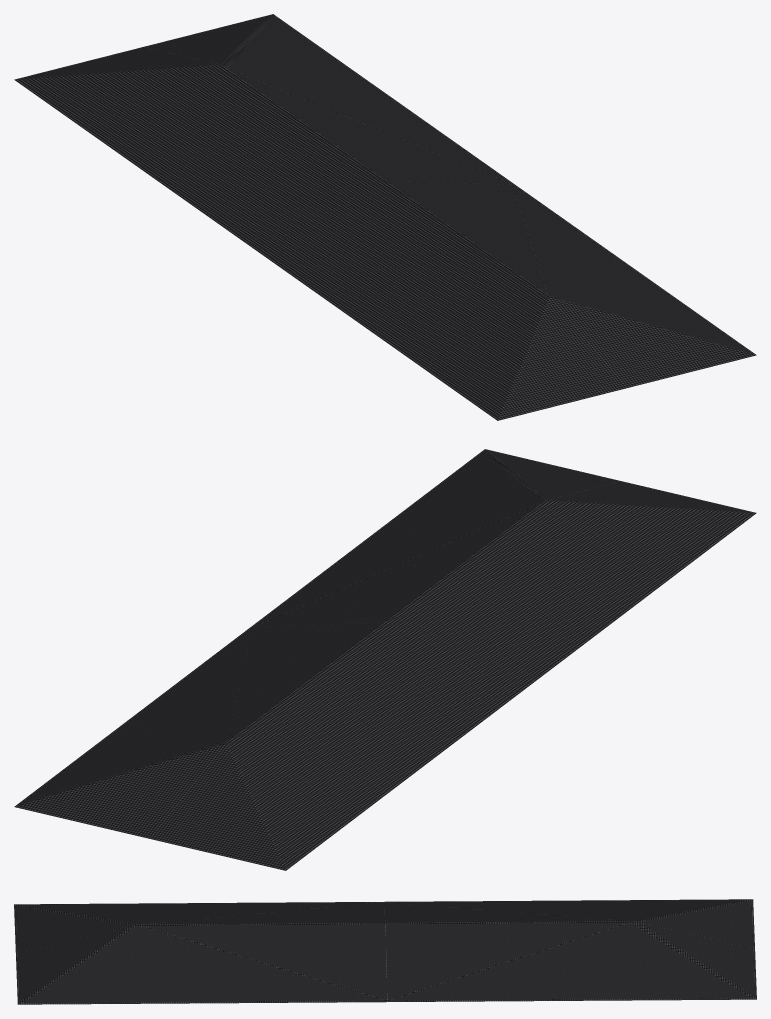
File: uni_gen5.glb
3 views of the same model, one above another, from view 1: azimuth 30°, elevation 25°; view 2: azimuth 150°, elevation 25°; view 3: azimuth 270°, elevation 25° (orthographic). The views are drawn at different scales.
Visible parts, largest first — view 1: OfficeBuilding.062; view 2: OfficeBuilding.062; view 3: OfficeBuilding.062.
Part boxes in pixels (x1,y1,x2,y2): OfficeBuilding.062: (14,14,756,420); OfficeBuilding.062: (14,449,756,870); OfficeBuilding.062: (14,899,756,1004).
Bounding box in the file's own units: 13.28 × 1.69 × 39.59.
Materials: 1 (1 with a texture image).
